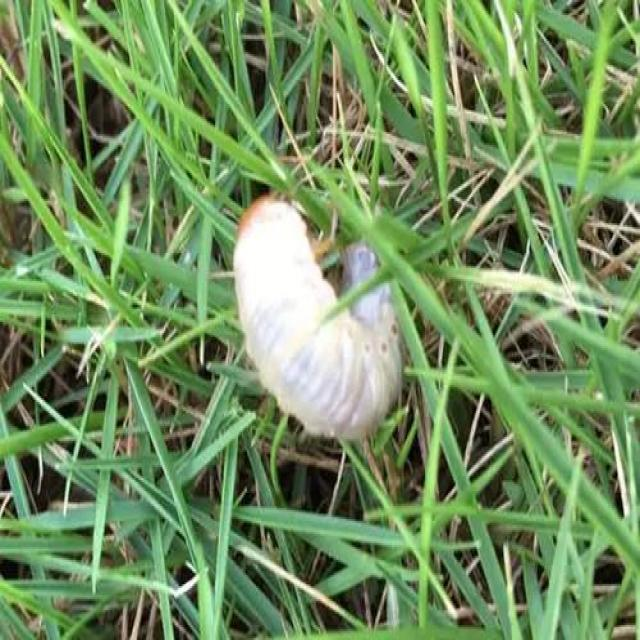Grub-Adult-: (224, 175, 419, 456)
